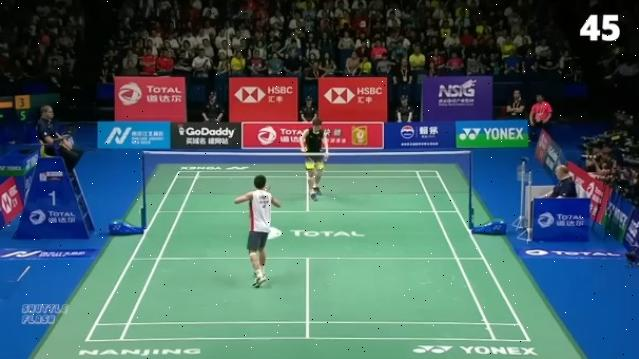Shuttlecock: (320, 156, 332, 166)
